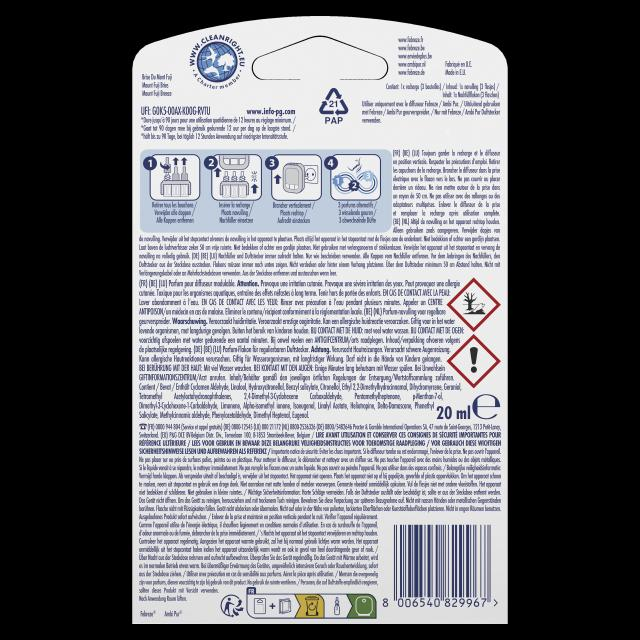GHS_Symbol_ENVIRONMENT: (448, 277, 502, 332)
GHS_Symbol_EXCLAMATION_MARK: (446, 334, 500, 388)
